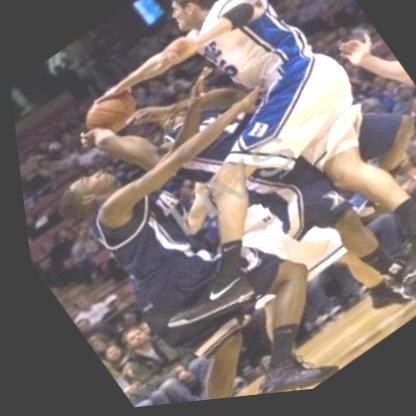basketball: (69, 75, 152, 152)
